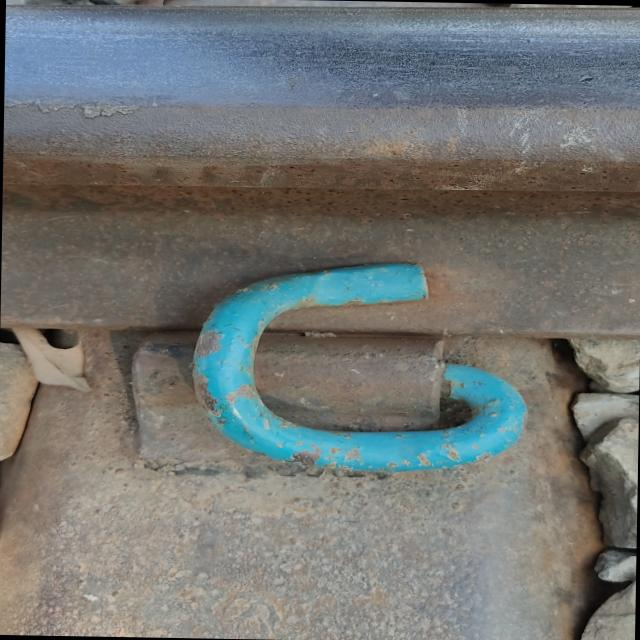track_bolt: (180, 252, 539, 480)
